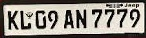character: (75, 8, 86, 29), (19, 10, 31, 29), (7, 10, 18, 30), (116, 7, 127, 27), (35, 10, 46, 29), (47, 10, 58, 29), (129, 8, 140, 27), (91, 8, 101, 28), (63, 9, 73, 28), (104, 8, 113, 27)
